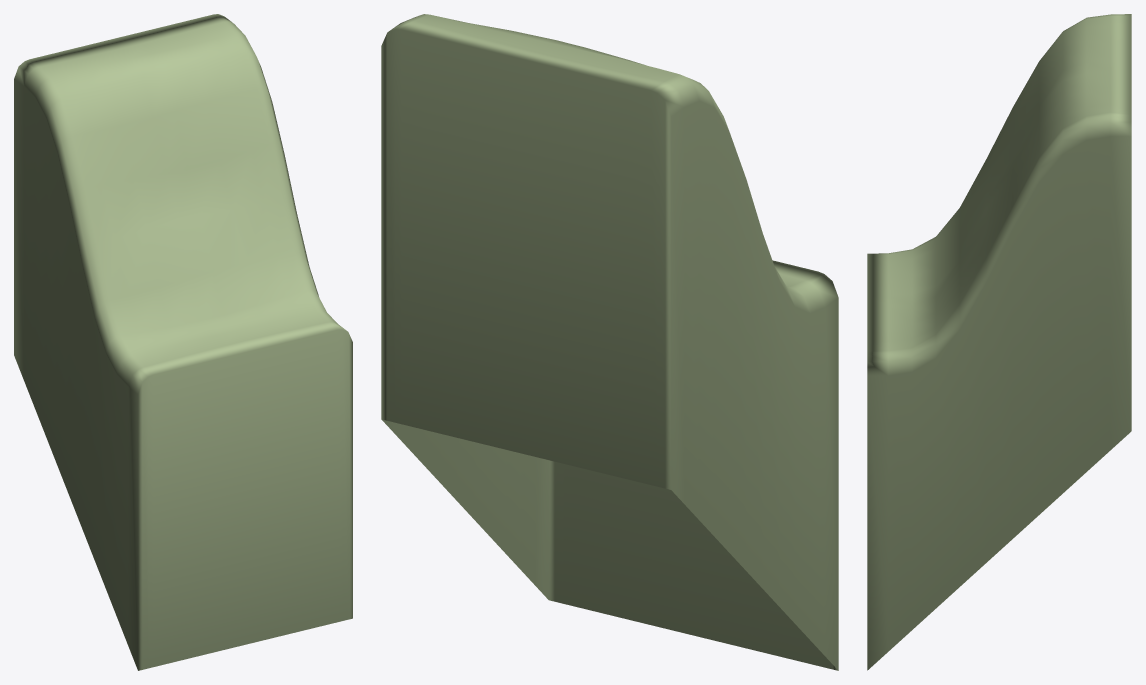
Rendered from ground-ramp-lr-22.glb.
3 views of the same model, side by side, from view 1: azimuth 30°, elevation 25°; view 2: azimuth 150°, elevation 25°; view 3: azimuth 270°, elevation 25° (orthographic). The views are drawn at different scales.
Visible parts, largest first — view 1: ground-ramp-lr-22; view 2: ground-ramp-lr-22; view 3: ground-ramp-lr-22.
Part boxes in pixels (left/top/right/bottom): ground-ramp-lr-22: left=14, top=14, right=352, bottom=670; ground-ramp-lr-22: left=381, top=14, right=838, bottom=670; ground-ramp-lr-22: left=867, top=14, right=1131, bottom=670.
Size of the model in its own units: 1 by 2.3 by 1.
